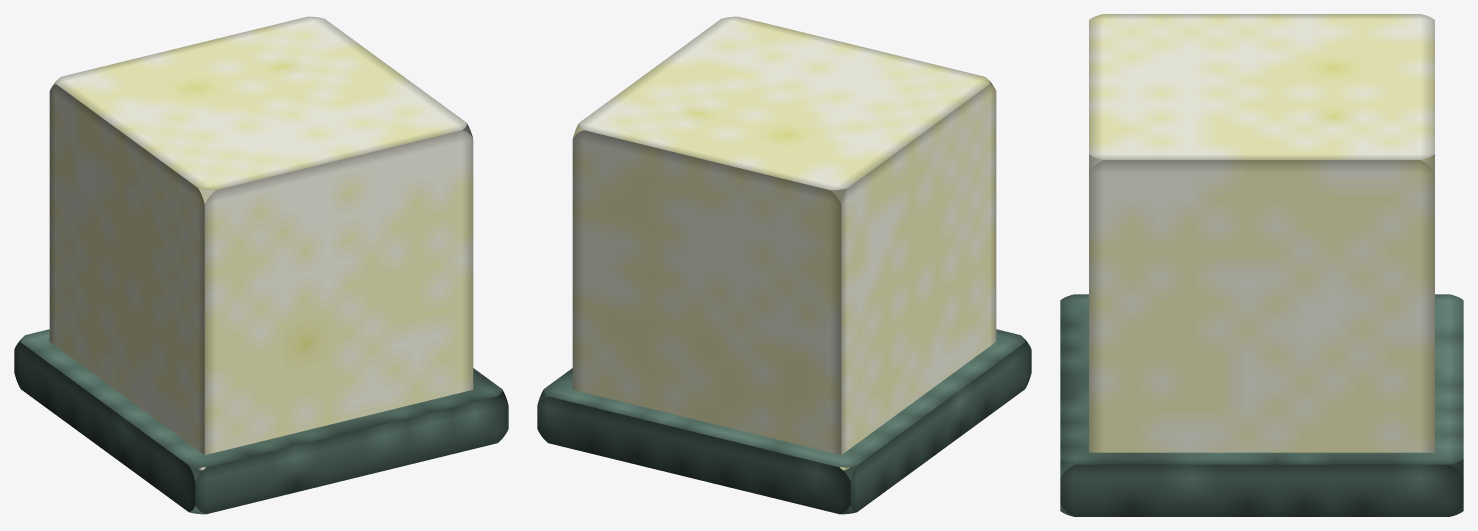
Rendered from deep_pearl.obj.
The picture shows the model from 3 angles, left to right: view 1: azimuth 30°, elevation 25°; view 2: azimuth 150°, elevation 25°; view 3: azimuth 270°, elevation 25°; orthographic projection. The views are drawn at different scales.
Parts seen in each view (by area): view 1: fire, lit; view 2: fire, lit; view 3: fire, lit.
Part boxes in pixels (box(x1,y1,x2,y2)): fire: box(49, 16, 473, 470); lit: box(14, 329, 508, 514); fire: box(572, 16, 996, 470); lit: box(537, 329, 1031, 514); fire: box(1089, 14, 1434, 452); lit: box(1060, 294, 1463, 516).
Size of the model in its own units: 0.4375 by 0.4125 by 0.4375.
